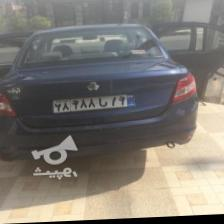plate: (52, 92, 138, 114)
